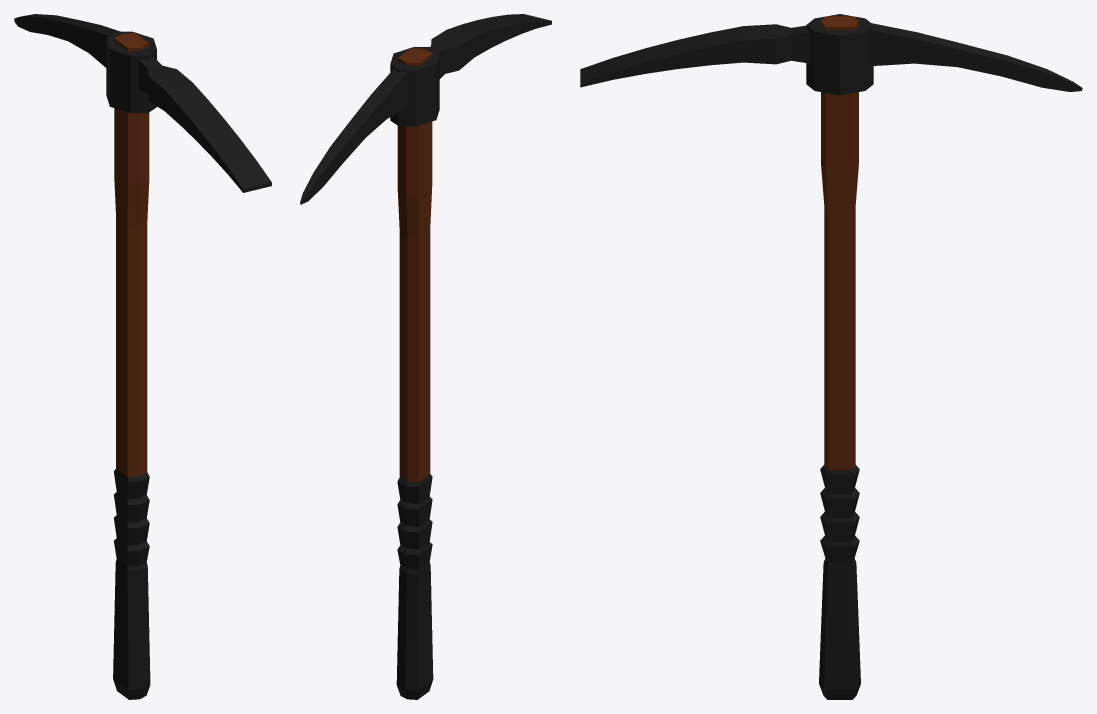
The model's file is Pickaxe.obj.
The picture shows the model from 3 angles, left to right: view 1: azimuth 30°, elevation 25°; view 2: azimuth 150°, elevation 25°; view 3: azimuth 270°, elevation 25°; orthographic projection. The views are drawn at different scales.
Visible parts, largest first — view 1: Pickaxe_Circle.001; view 2: Pickaxe_Circle.001; view 3: Pickaxe_Circle.001.
Boxes of the visible parts, <box> form: Pickaxe_Circle.001: <box>14,14,271,699</box>; Pickaxe_Circle.001: <box>300,14,551,699</box>; Pickaxe_Circle.001: <box>580,14,1082,699</box>.
Size of the model in its own units: 0.0587 by 0.8367 by 0.5656.
